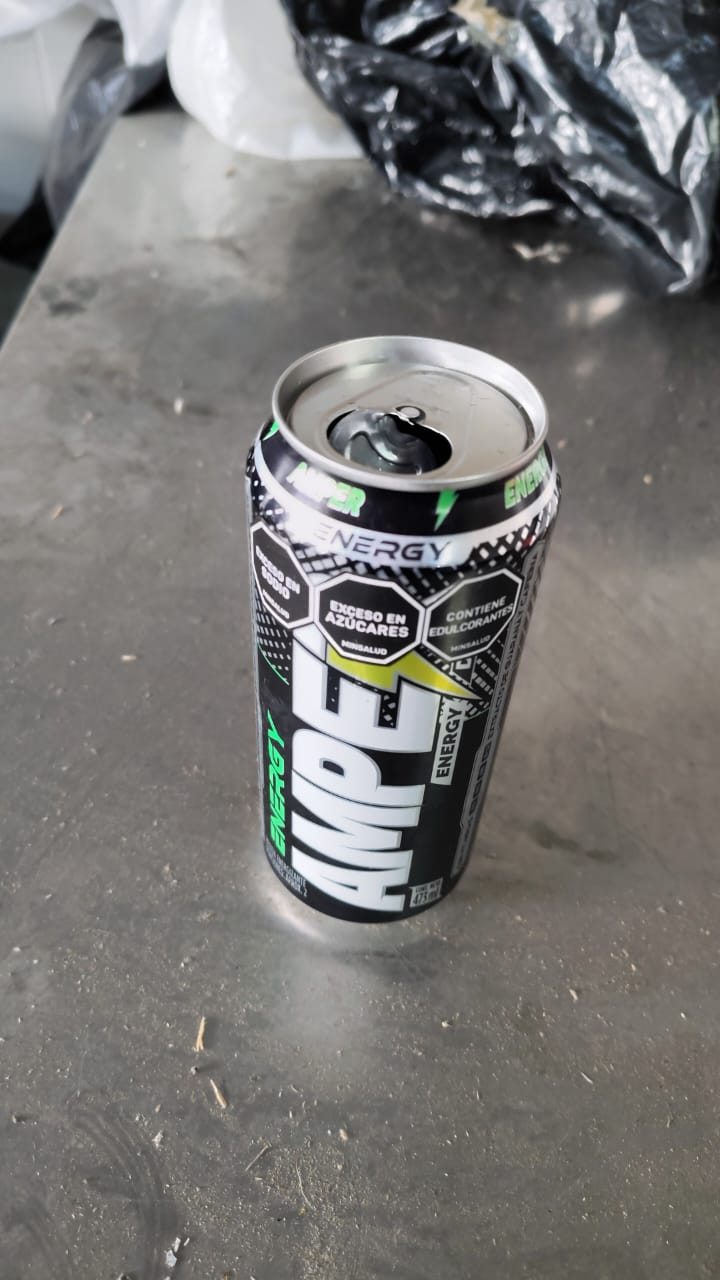Metal: (241, 330, 557, 927)
